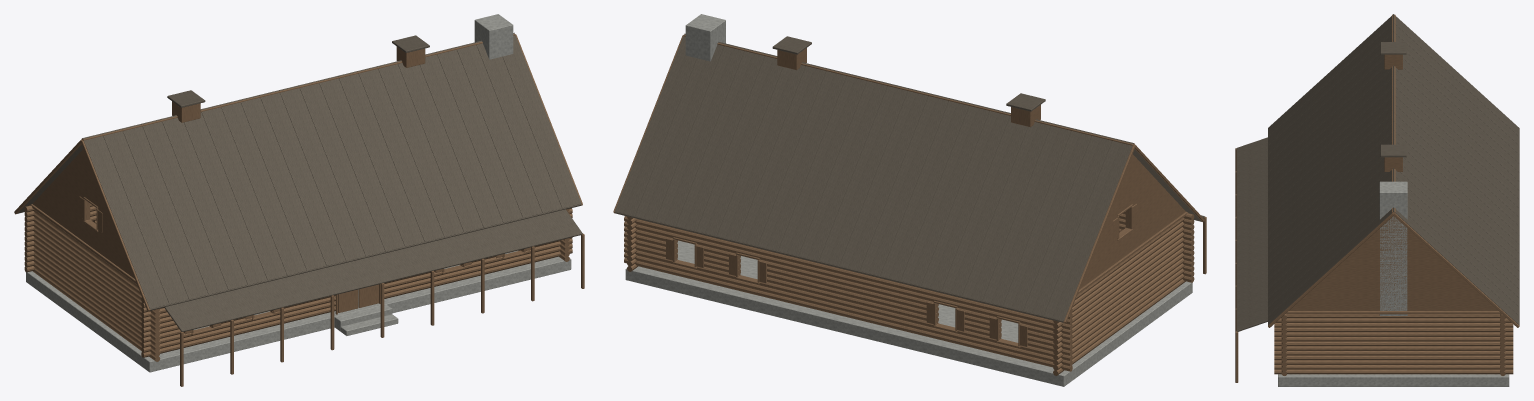
The picture shows the model from 3 angles, left to right: view 1: azimuth 30°, elevation 25°; view 2: azimuth 150°, elevation 25°; view 3: azimuth 270°, elevation 25°; orthographic projection. The views are drawn at different scales.
Parts seen in each view (by area): view 1: R01_roof_right, R01_canopy, R01_foundation, R01_wall_front, R01_wall_right, R01_gable_front, R01_canopy_post_8.4_-11.6, R01_ridge, R01_chimney, R01_verge_-1_-1, R01_roof_left, R01_vent0_cap (+1 smaller); view 2: R01_roof_left, R01_wall_left, R01_foundation, R01_wall_front, R01_gable_front, R01_ridge, R01_chimney, R01_verge_-1_-1, R01_roof_right, R01_vent0_cap, R01_wall_right, R01_wall_rear; view 3: R01_roof_left, R01_roof_right, R01_wall_rear, R01_gable_rear, R01_canopy, R01_chimney, R01_foundation, R01_verge_1_-1, R01_ridge, R01_vent0_cap, R01_canopy_post_8.4_-11.6, R01_wall_right (+1 smaller).
Boxes of the visible parts, x1=… form: R01_roof_right: x1=83, y1=33, x2=581, y2=310; R01_canopy: x1=164, y1=209, x2=582, y2=331; R01_foundation: x1=26, y1=250, x2=571, y2=372; R01_wall_front: x1=30, y1=197, x2=160, y2=361; R01_wall_right: x1=141, y1=208, x2=572, y2=357; R01_gable_front: x1=33, y1=149, x2=134, y2=278; R01_canopy_post_8.4_-11.6: x1=180, y1=233, x2=584, y2=386; R01_ridge: x1=82, y1=34, x2=515, y2=140; R01_chimney: x1=474, y1=14, x2=513, y2=59; R01_verge_-1_-1: x1=14, y1=139, x2=150, y2=311; R01_roof_left: x1=17, y1=33, x2=514, y2=213; R01_vent0_cap: x1=167, y1=35, x2=429, y2=107; R01_roof_left: x1=615, y1=34, x2=1133, y2=322; R01_wall_left: x1=624, y1=216, x2=1072, y2=371; R01_foundation: x1=625, y1=240, x2=1192, y2=386; R01_wall_front: x1=1053, y1=204, x2=1188, y2=375; R01_gable_front: x1=1079, y1=154, x2=1185, y2=289; R01_ridge: x1=683, y1=34, x2=1134, y2=145; R01_chimney: x1=685, y1=14, x2=725, y2=61; R01_verge_-1_-1: x1=1063, y1=144, x2=1204, y2=323; R01_roof_right: x1=684, y1=33, x2=1201, y2=221; R01_vent0_cap: x1=772, y1=36, x2=1045, y2=111; R01_wall_right: x1=1119, y1=211, x2=1194, y2=282; R01_wall_rear: x1=627, y1=216, x2=637, y2=271; R01_roof_left: x1=1393, y1=14, x2=1519, y2=325; R01_roof_right: x1=1268, y1=14, x2=1394, y2=324; R01_wall_rear: x1=1274, y1=311, x2=1513, y2=374; R01_gable_rear: x1=1289, y1=216, x2=1498, y2=310; R01_canopy: x1=1236, y1=137, x2=1267, y2=331; R01_chimney: x1=1379, y1=181, x2=1407, y2=315; R01_foundation: x1=1278, y1=374, x2=1509, y2=386; R01_verge_1_-1: x1=1268, y1=213, x2=1519, y2=327; R01_ridge: x1=1384, y1=14, x2=1402, y2=213; R01_vent0_cap: x1=1380, y1=42, x2=1406, y2=157; R01_canopy_post_8.4_-11.6: x1=1235, y1=148, x2=1238, y2=382; R01_wall_right: x1=1281, y1=313, x2=1286, y2=375.
Size of the model in its own units: 25.15 by 11.4 by 15.21.
Materials: 4 (3 with a texture image).
